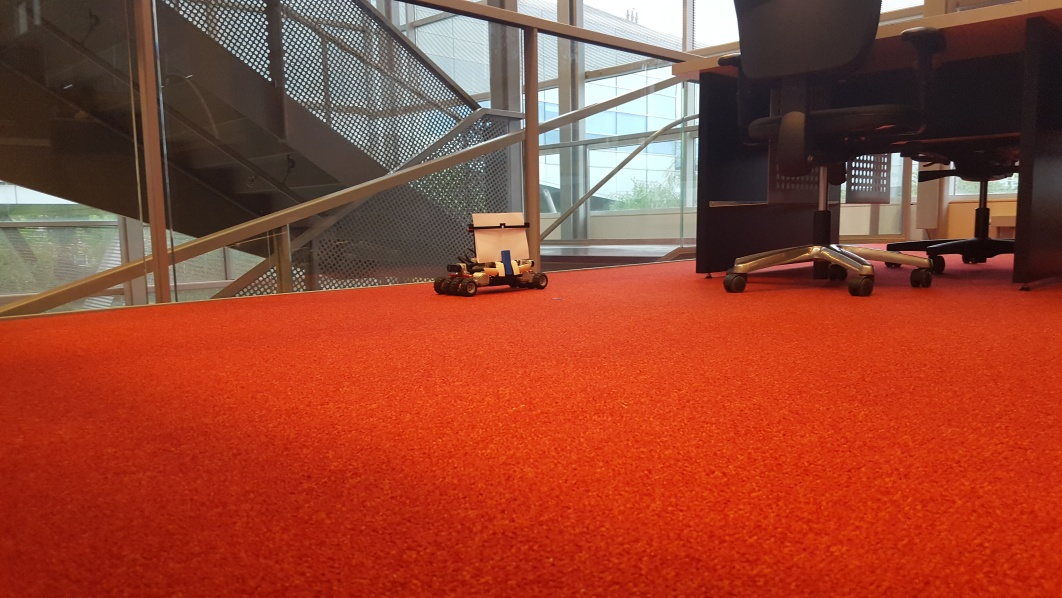car: (433, 210, 554, 298)
